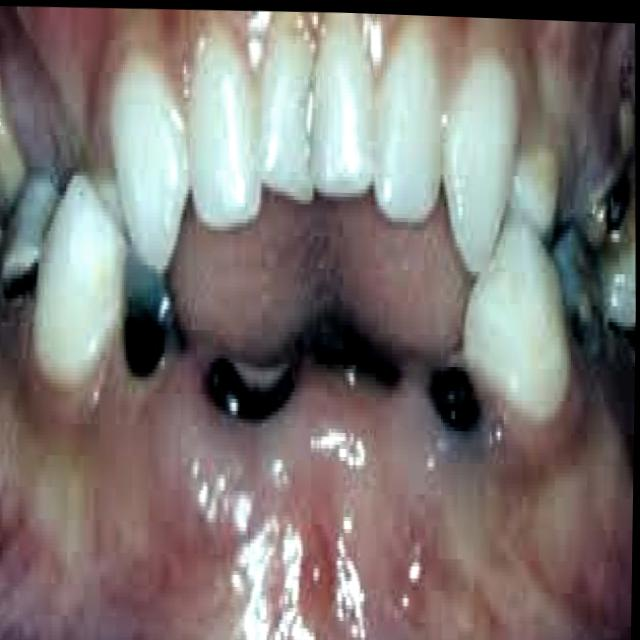cariess: (211, 320, 402, 423), (548, 229, 635, 438), (125, 256, 180, 377), (428, 370, 481, 439), (604, 178, 629, 238), (7, 274, 34, 298)
